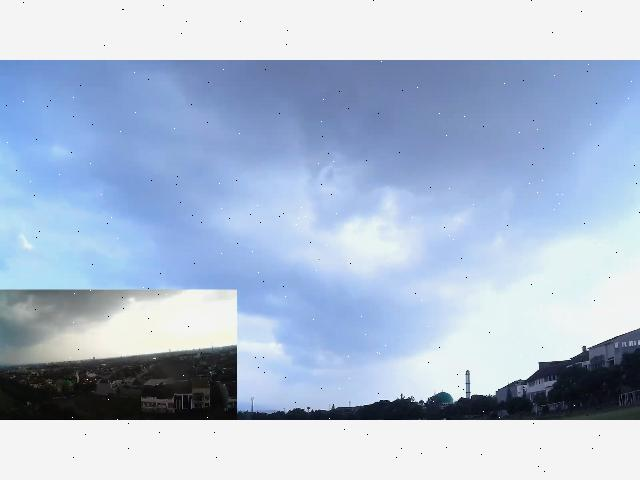Anti-Drone: (312, 255, 326, 263)
